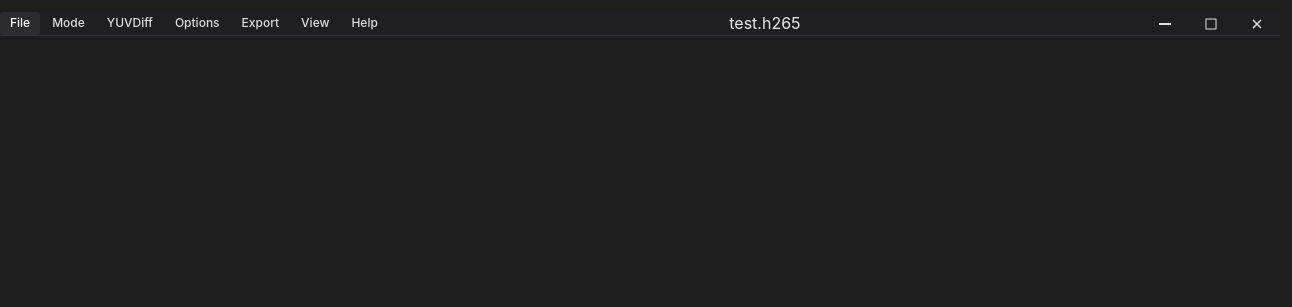
Test: TitleBar › should open submenu on hover
The width and height of the screenshot is (1292, 307).
Hover over the text "File": (20, 24) [10,15,30,32]
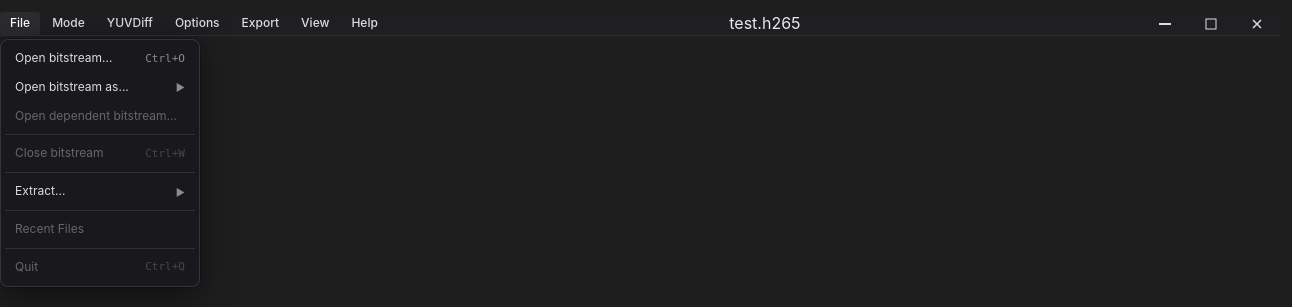
Hover over the text "Open bitstream as...": (100, 86) [15,79,185,94]
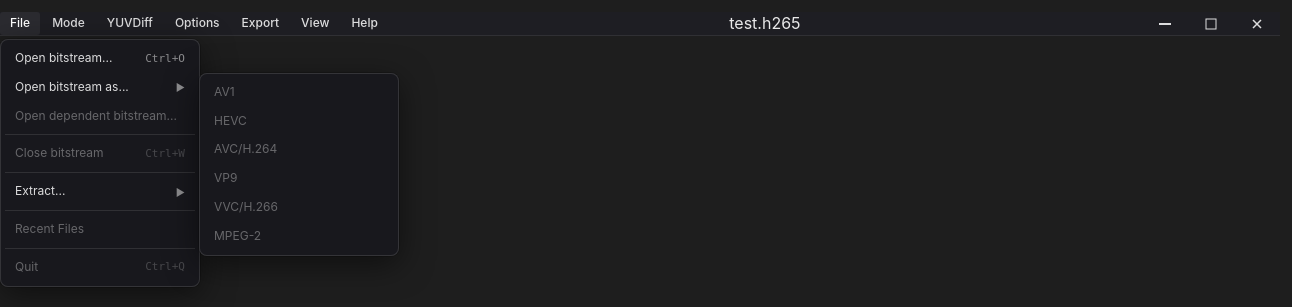
expect the text "AV1" is shown: met, box [214,84,235,99]
expect the text "HEVC" is shown: met, box [214,113,247,128]
